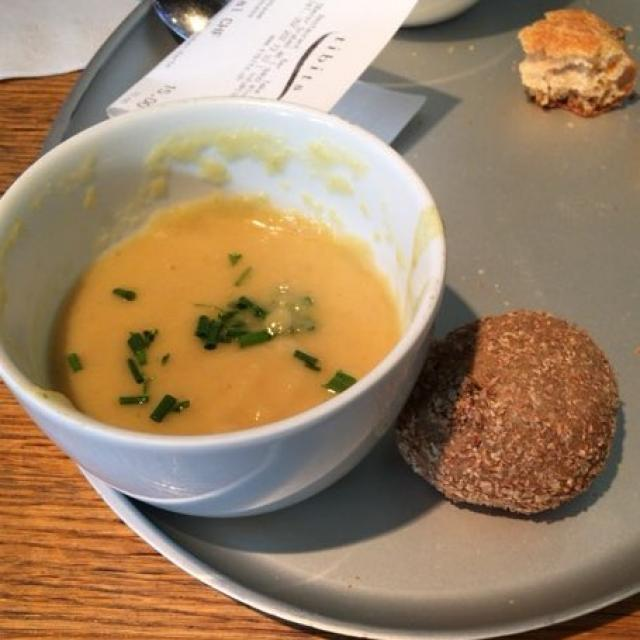bread: (407, 314, 617, 510)
